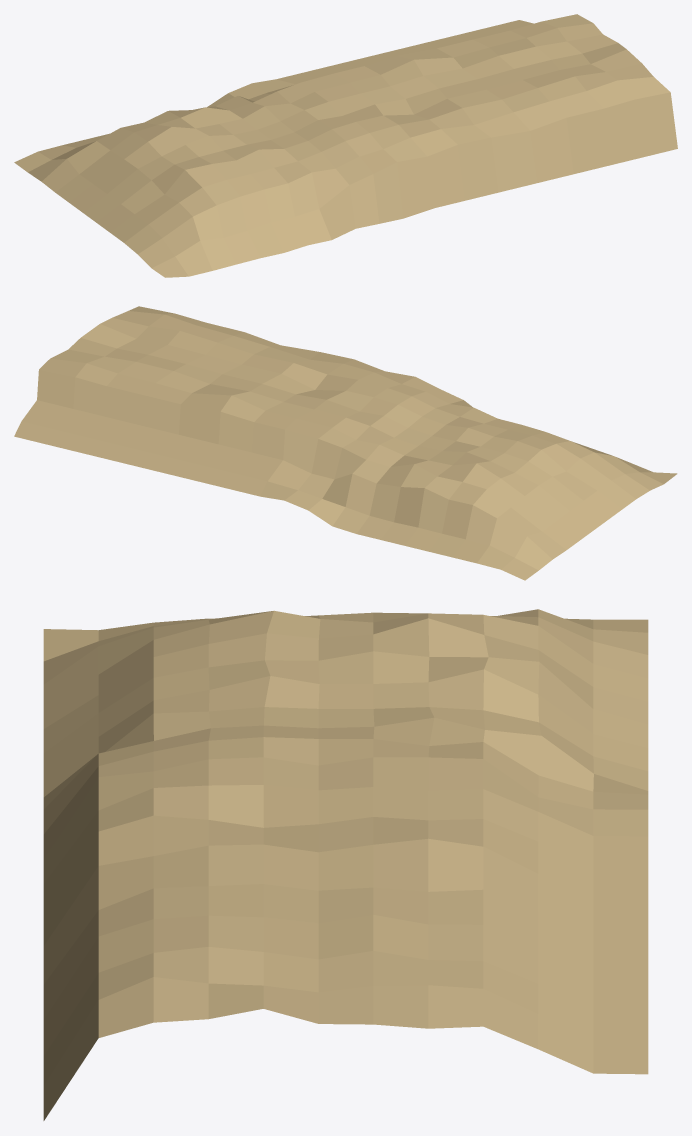
File: beach_sand_2.fbx
3 views of the same model, one above another, from view 1: azimuth 30°, elevation 25°; view 2: azimuth 150°, elevation 25°; view 3: azimuth 270°, elevation 25° (orthographic). The views are drawn at different scales.
Visible parts, largest first — view 1: Beach; view 2: Beach; view 3: Beach.
Part boxes in pixels (x1=…): Beach: x1=14, y1=14, x2=677, y2=277; Beach: x1=14, y1=306, x2=677, y2=580; Beach: x1=43, y1=609, x2=648, y2=1120.
Size of the model in its own units: 1657 by 206 by 827.
